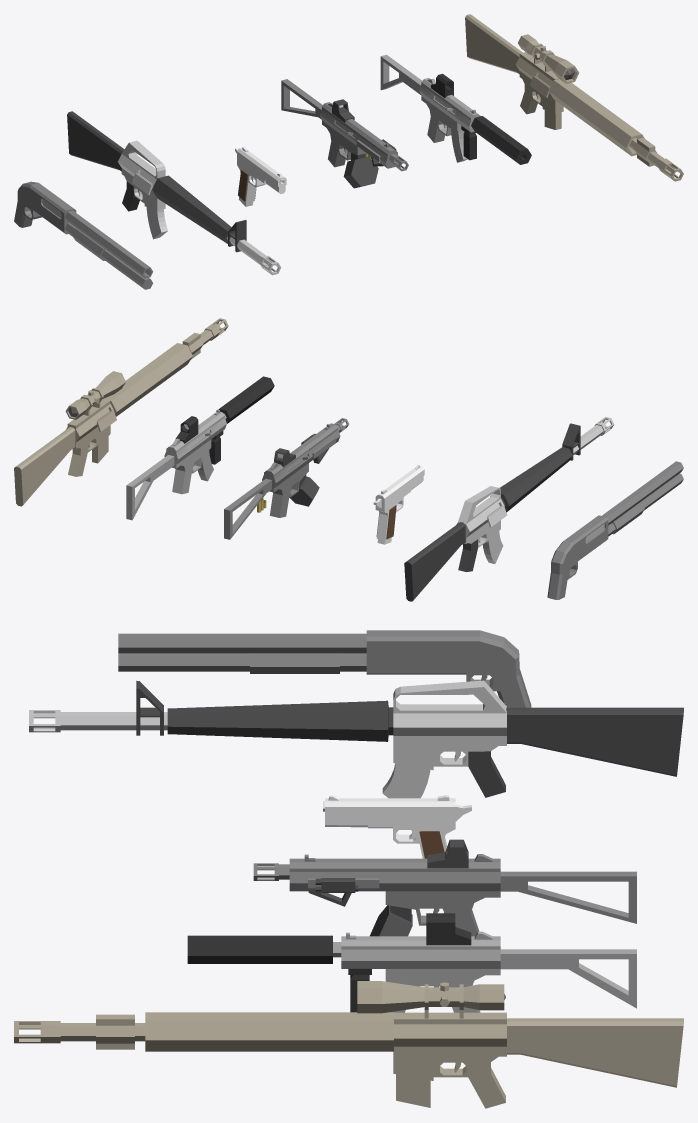
File: LowPolyGunAssetPack.fbx
The picture shows the model from 3 angles, top to bottom: view 1: azimuth 30°, elevation 25°; view 2: azimuth 150°, elevation 25°; view 3: azimuth 270°, elevation 25°; orthographic projection. The views are drawn at different scales.
Visible parts, largest first — view 1: SniperBody2, SMG2_Body, AssaultRifleBody, SMG_Body, AssaultRifleStock, SniperStock, ShotgunBody, polySurface3, PistolBody, SniperBody, ShotgunBarrel, SMG_Suppressor (+6 smaller); view 2: SMG2_Body, ShotgunBody, SniperBody2, AssaultRifleBody, SniperStock, AssaultRifleStock, SMG_Body, SniperBody, polySurface3, PistolBody, ShotgunBarrel, SMG_Stock (+6 smaller); view 3: SniperBody2, AssaultRifleStock, SniperStock, AssaultRifleBody, SMG2_Body, SniperBody, ShotgunBody, polySurface3, SMG_Body, PistolBody, ShotgunBarrel, SMG_Suppressor (+15 smaller).
Boxes of the visible parts, <box> form: SniperBody2: <box>548,79,644,156</box>; SMG2_Body: <box>320,102,397,168</box>; AssaultRifleBody: <box>118,140,165,211</box>; SMG_Body: <box>419,78,480,142</box>; AssaultRifleStock: <box>67,111,124,171</box>; SniperStock: <box>465,14,522,74</box>; ShotgunBody: <box>14,181,76,234</box>; polySurface3: <box>152,175,231,243</box>; PistolBody: <box>235,146,286,202</box>; SniperBody: <box>515,52,563,114</box>; ShotgunBarrel: <box>65,210,152,278</box>; SMG_Suppressor: <box>471,116,531,164</box>; SMG2_Body: <box>262,423,340,517</box>; ShotgunBody: <box>547,515,608,599</box>; SniperBody2: <box>104,343,192,416</box>; AssaultRifleBody: <box>456,486,504,571</box>; SniperStock: <box>14,427,75,506</box>; AssaultRifleStock: <box>404,522,465,601</box>; SMG_Body: <box>164,409,226,494</box>; SniperBody: <box>66,398,114,476</box>; polySurface3: <box>490,447,572,512</box>; PistolBody: <box>373,464,424,540</box>; ShotgunBarrel: <box>602,461,683,525</box>; SMG_Stock: <box>126,455,174,520</box>; SniperBody2: <box>145,1012,393,1051</box>; AssaultRifleStock: <box>506,707,683,776</box>; SniperStock: <box>507,1018,683,1087</box>; AssaultRifleBody: <box>393,680,506,797</box>; SMG2_Body: <box>289,854,500,936</box>; SniperBody: <box>393,1012,506,1108</box>; ShotgunBody: <box>366,630,531,707</box>; polySurface3: <box>167,700,393,741</box>; SMG_Body: <box>341,931,500,1012</box>; PistolBody: <box>325,795,471,858</box>; ShotgunBarrel: <box>118,633,366,653</box>; SMG_Suppressor: <box>187,935,332,963</box>.
Bounding box in the file's own units: 103 × 16.57 × 72.87.
